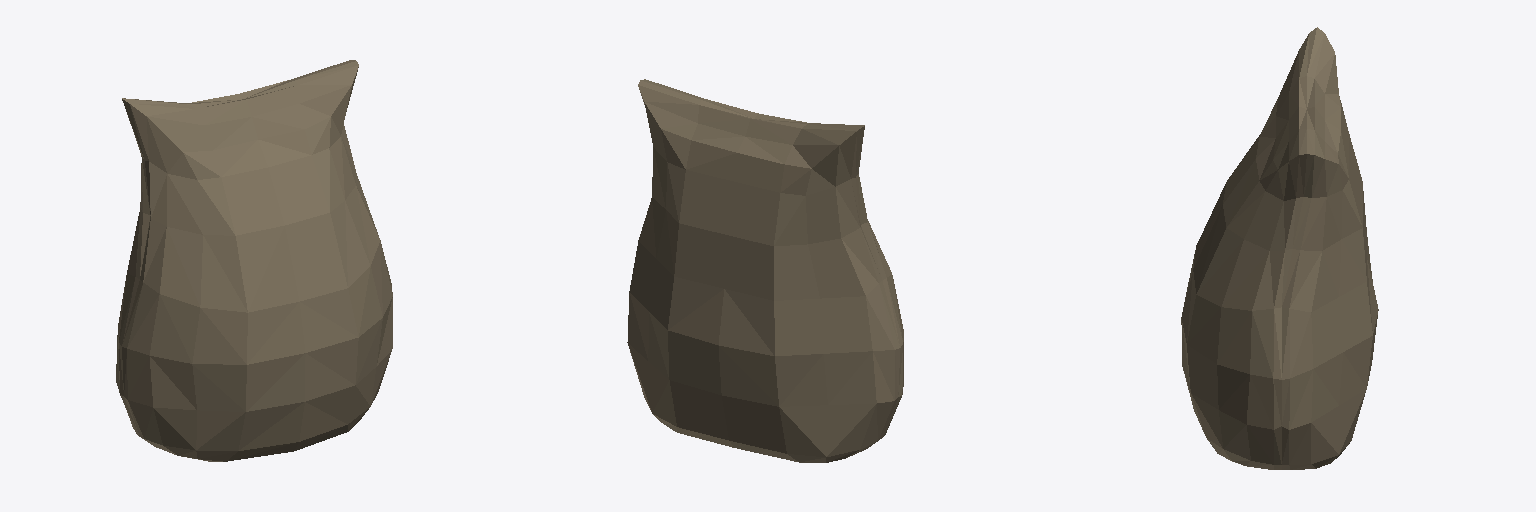
File: sack.obj
3 renders of one model, left to right at view 1: azimuth 30°, elevation 25°; view 2: azimuth 150°, elevation 25°; view 3: azimuth 270°, elevation 25°, orthographic.
Visible parts, largest first — view 1: Mesh1_GrainSack01_1_Model; view 2: Mesh1_GrainSack01_1_Model; view 3: Mesh1_GrainSack01_1_Model.
Part boxes in pixels (x1,y1,x2,y2): Mesh1_GrainSack01_1_Model: (116,60,392,461); Mesh1_GrainSack01_1_Model: (627,79,903,462); Mesh1_GrainSack01_1_Model: (1181,27,1378,469).
Size of the model in its own units: 5.31 by 6.57 by 3.41.